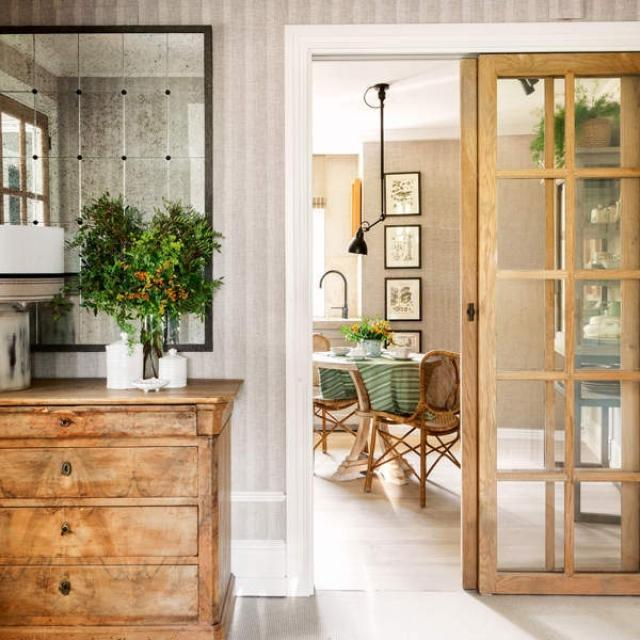door: (473, 51, 640, 596)
